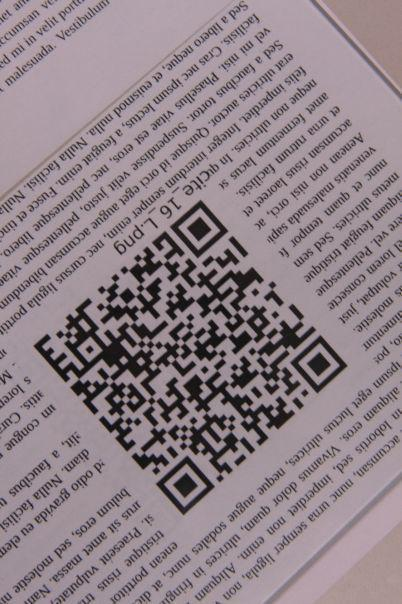qr_code: (33, 200, 347, 515)
